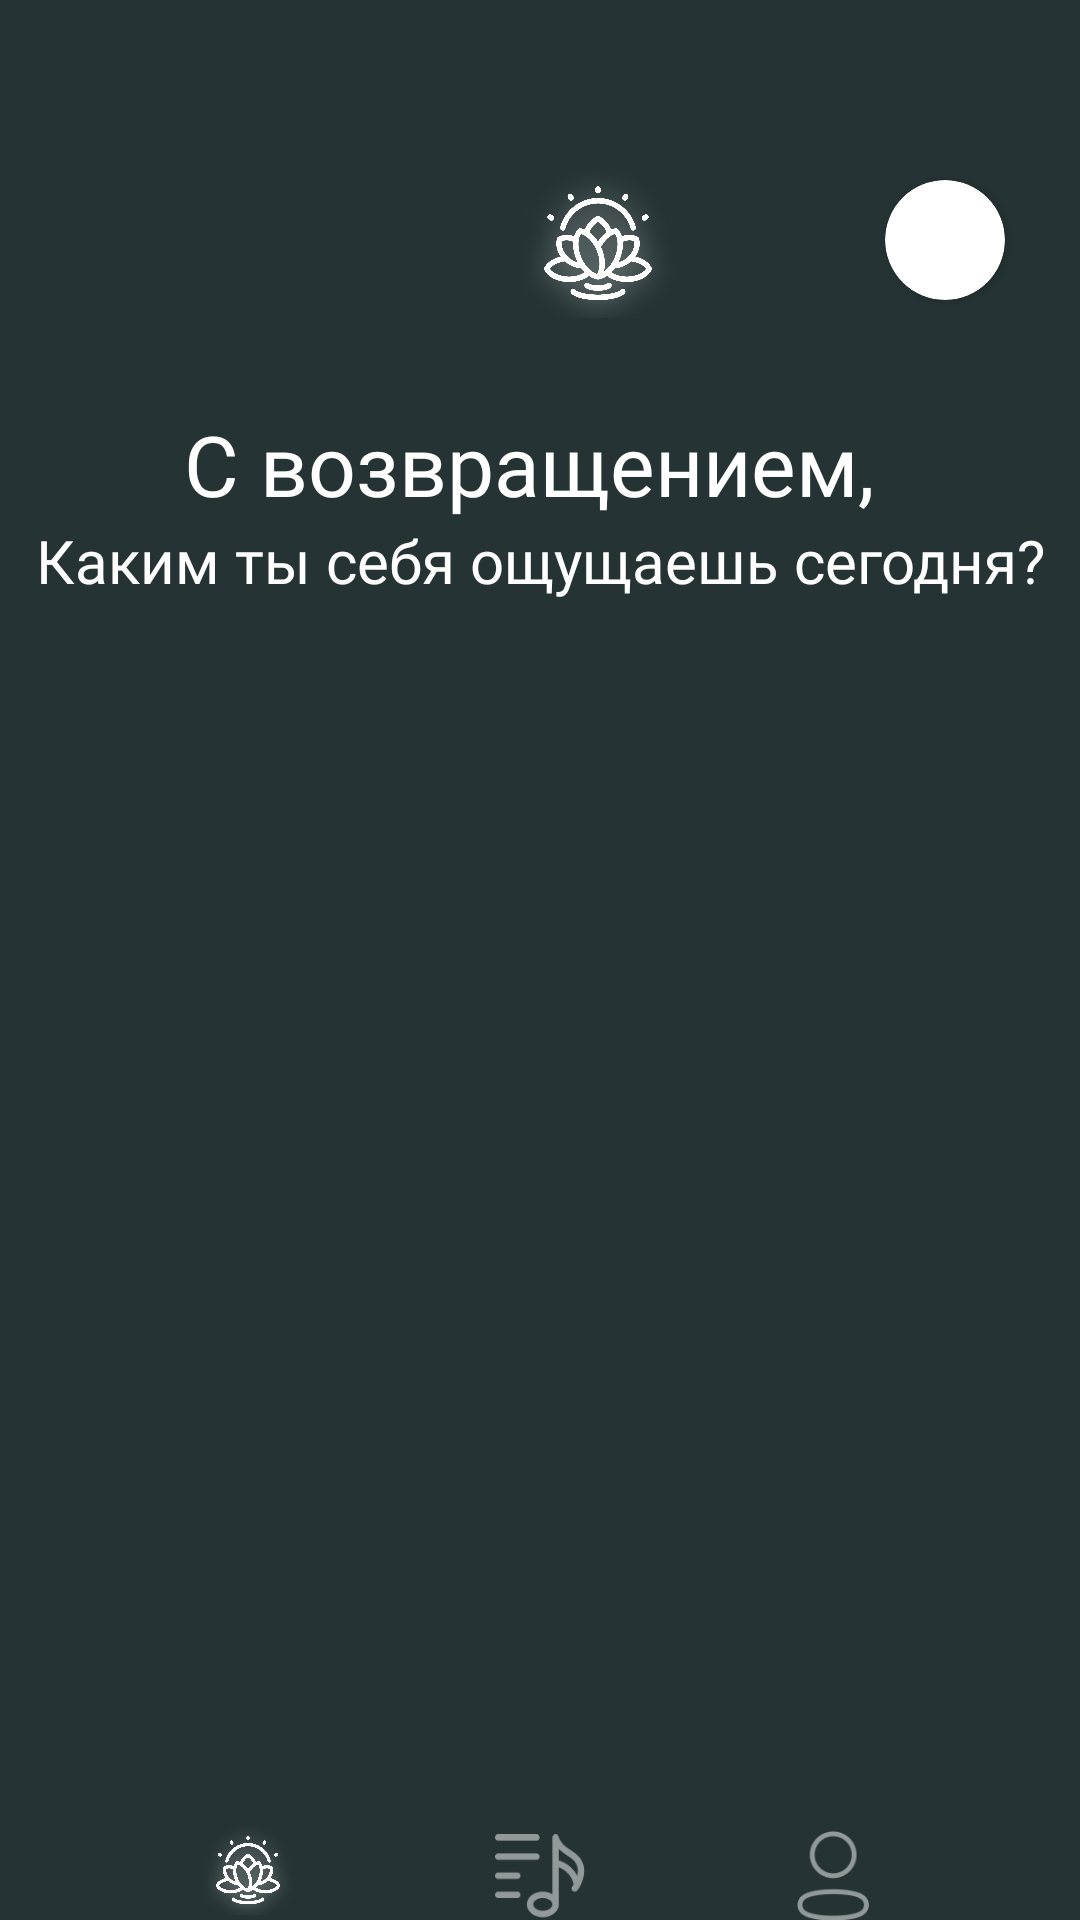

Screen size 1080 x 1920. Icon name, then its box in pixels as (x1, y1, x2, y2):
music: (495, 1834, 585, 1918)
profil: (797, 1831, 869, 1920)
